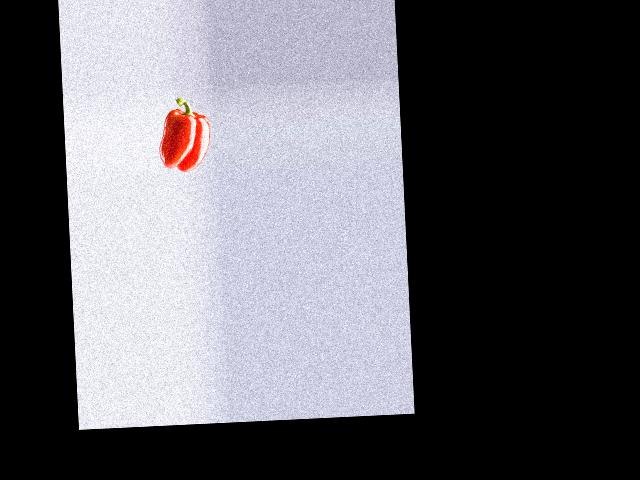bell_pepper: (156, 96, 214, 171)
